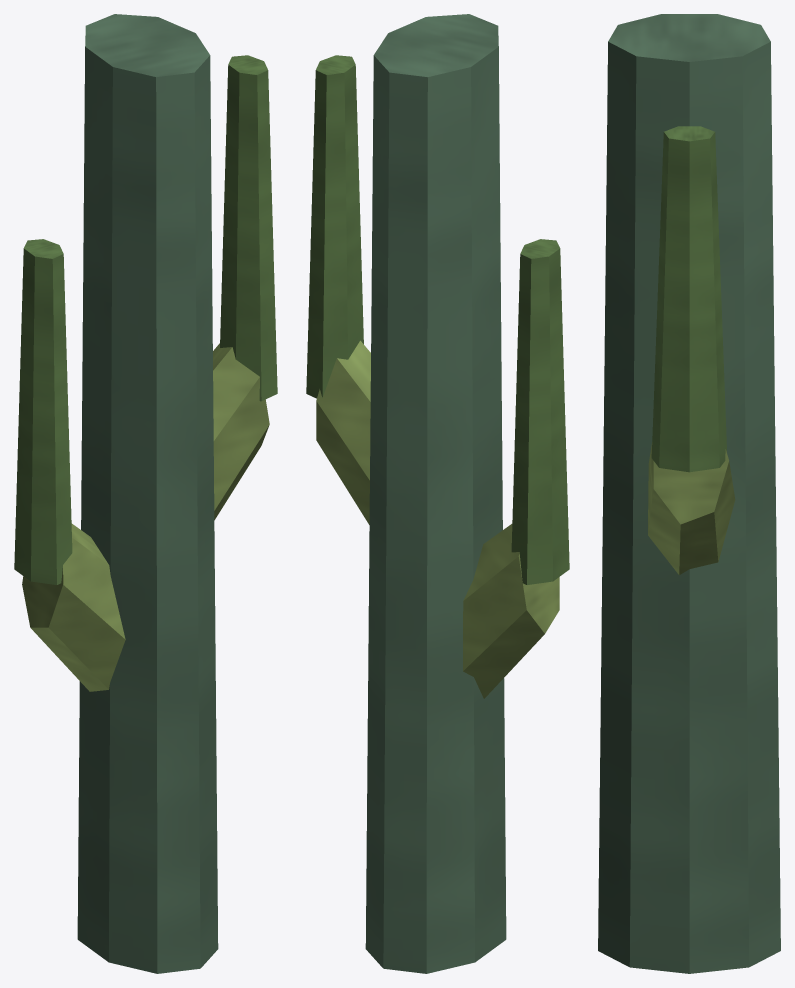
The model's file is cactus_set_04.fbx.
3 renders of one model, left to right at view 1: azimuth 30°, elevation 25°; view 2: azimuth 150°, elevation 25°; view 3: azimuth 270°, elevation 25°, orthographic.
Parts seen in each view (by area): view 1: cactus_set_04; view 2: cactus_set_04; view 3: cactus_set_04.
Boxes of the visible parts, x1,y1,x2,y2 form: cactus_set_04: (14,14,277,973); cactus_set_04: (306,14,569,973); cactus_set_04: (598,14,780,973).
Size of the model in its own units: 86.4 by 296 by 54.
Materials: 1 (1 with a texture image).
